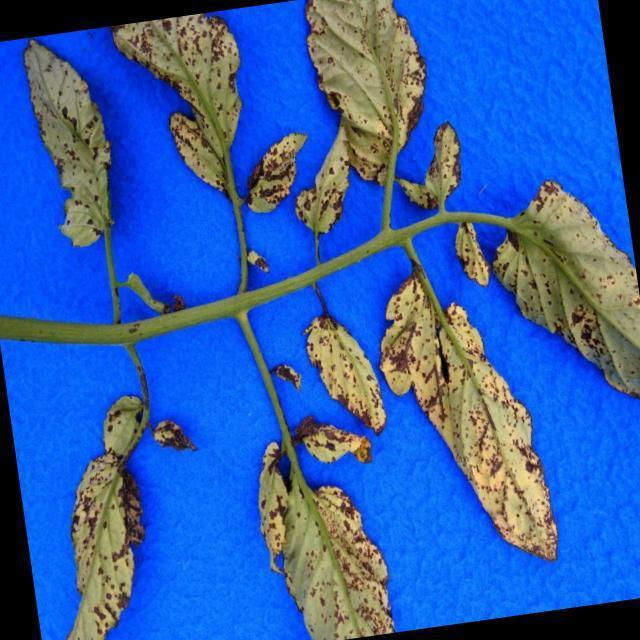Bacterial Spot: (375, 270, 564, 578), (478, 122, 640, 430), (231, 407, 404, 640), (10, 35, 124, 251), (30, 454, 161, 640), (305, 0, 436, 176), (110, 10, 248, 170), (300, 302, 389, 448), (237, 129, 316, 212), (167, 114, 224, 201), (422, 124, 470, 210), (447, 222, 490, 298)
